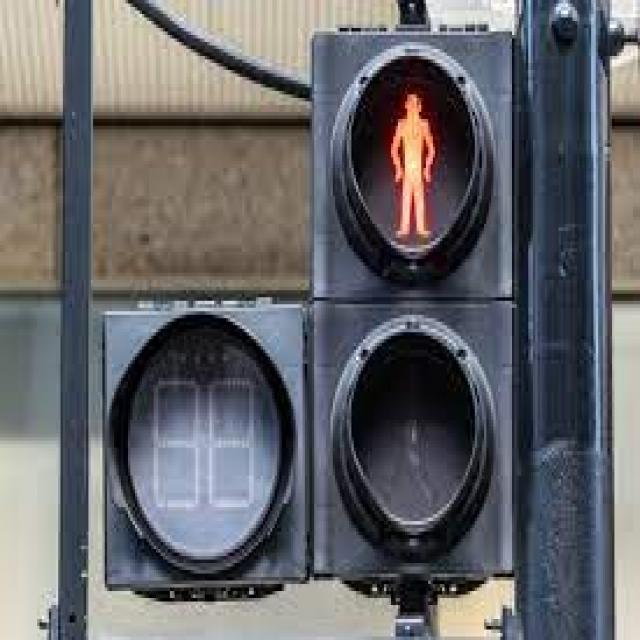Not go: (297, 40, 515, 574), (324, 5, 513, 329)
